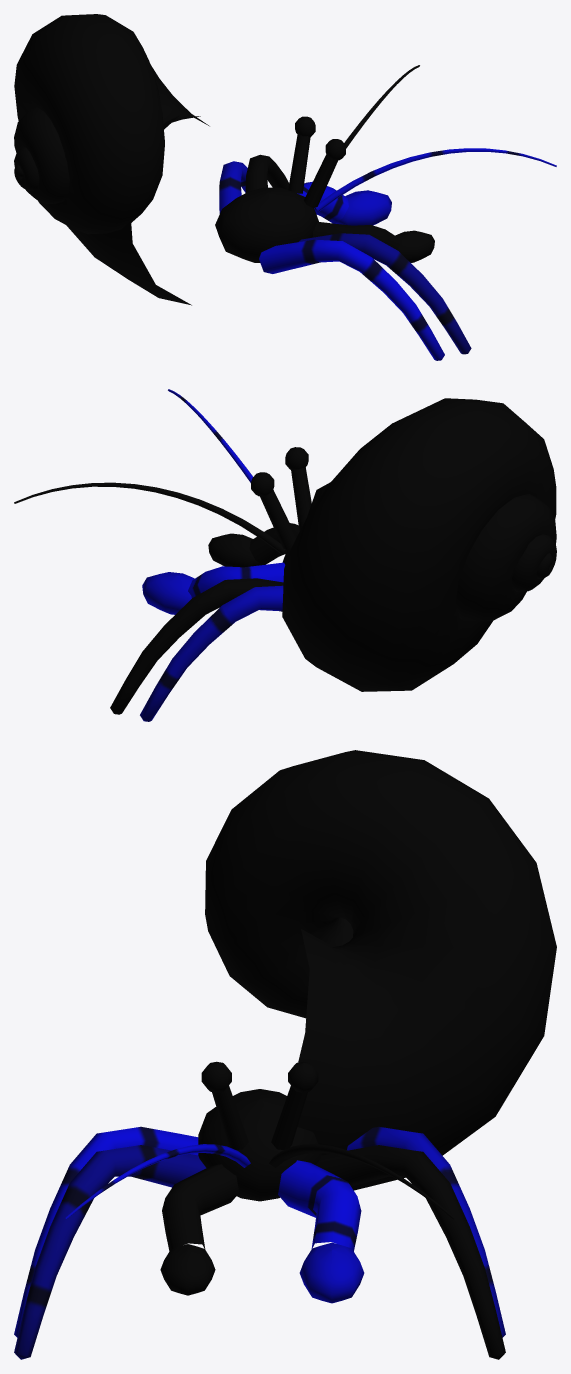
The model's file is hermit_blue.glb.
3 renders of one model, top to bottom at view 1: azimuth 30°, elevation 25°; view 2: azimuth 150°, elevation 25°; view 3: azimuth 270°, elevation 25°, orthographic. The views are drawn at different scales.
Visible parts, largest first — view 1: Shell, Legs, Body, Claws, Eyes, Antennae; view 2: Shell, Legs, Claws, Eyes, Antennae; view 3: Shell, Legs, Claws, Body, Eyes, Antennae.
Part boxes in pixels (x1,y1,x2,y2): Shell: [14, 14, 209, 305]; Legs: [219, 154, 471, 360]; Body: [215, 187, 318, 262]; Claws: [297, 181, 434, 262]; Eyes: [288, 116, 345, 207]; Antennae: [315, 65, 556, 211]; Shell: [282, 398, 556, 691]; Legs: [110, 578, 283, 721]; Claws: [142, 523, 299, 614]; Eyes: [251, 447, 311, 549]; Antennae: [14, 389, 285, 553]; Shell: [205, 750, 556, 1190]; Legs: [14, 1126, 505, 1359]; Claws: [160, 1160, 364, 1303]; Body: [198, 1089, 321, 1201]; Eyes: [201, 1061, 318, 1149]; Antennae: [65, 1144, 454, 1219].
Bounding box in the file's own units: 1 × 0.6507 × 0.7523.
2 materials, 1 textured.
